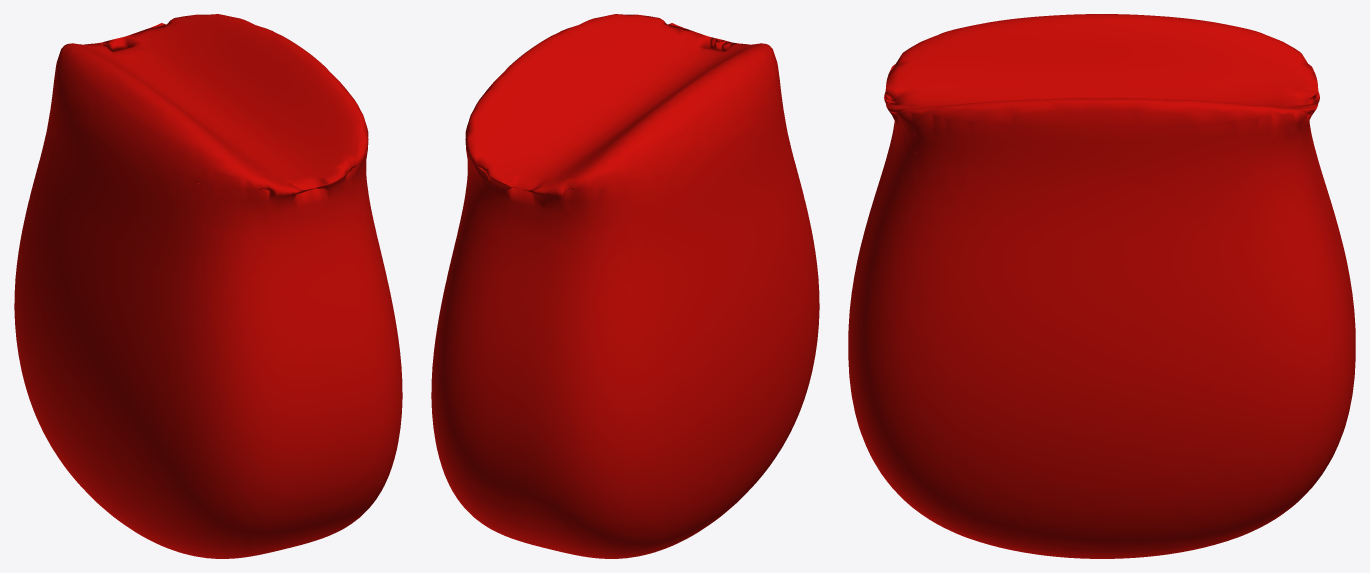
Rendered from comida_animal.glb.
The picture shows the model from 3 angles, left to right: view 1: azimuth 30°, elevation 25°; view 2: azimuth 150°, elevation 25°; view 3: azimuth 270°, elevation 25°; orthographic projection. The views are drawn at different scales.
Visible parts, largest first — view 1: Cube; view 2: Cube; view 3: Cube.
Boxes of the visible parts, bbox=[...] form: Cube: bbox=[14, 14, 402, 558]; Cube: bbox=[431, 14, 819, 558]; Cube: bbox=[848, 14, 1355, 558].
Bounding box in the file's own units: 1.1 × 1.84 × 1.75.
